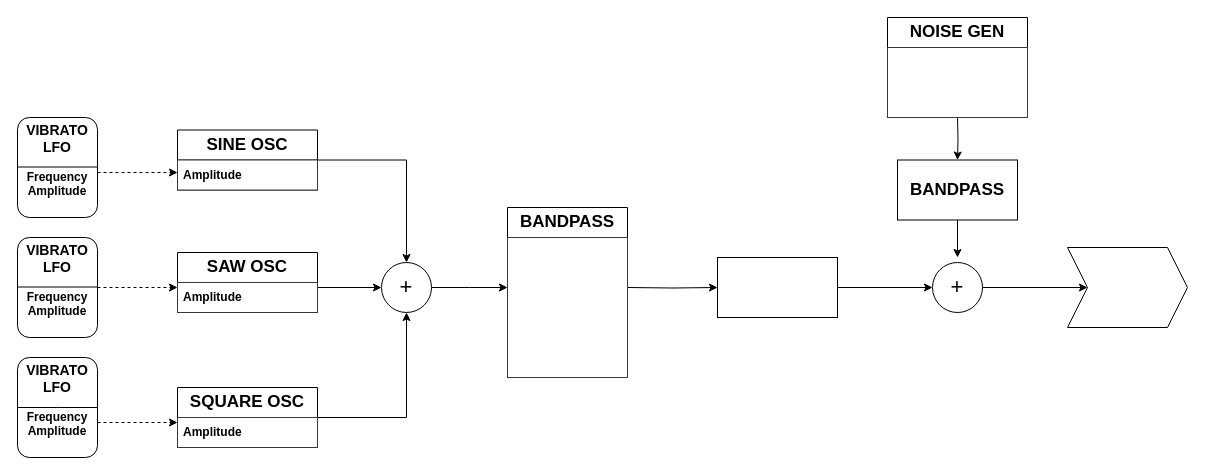
Some shapes in this 1205 by 475 pixel diagram are drawn without their labels. The centre of each missing label's shape, as x and y in pixels:
ADSR: the point at 777,287
Cutoff Frequency Bandwidth Amplitude Curve smoothing: the point at 567,307
Noise type Amplitude: the point at 957,82
OUT: the point at 1127,287
